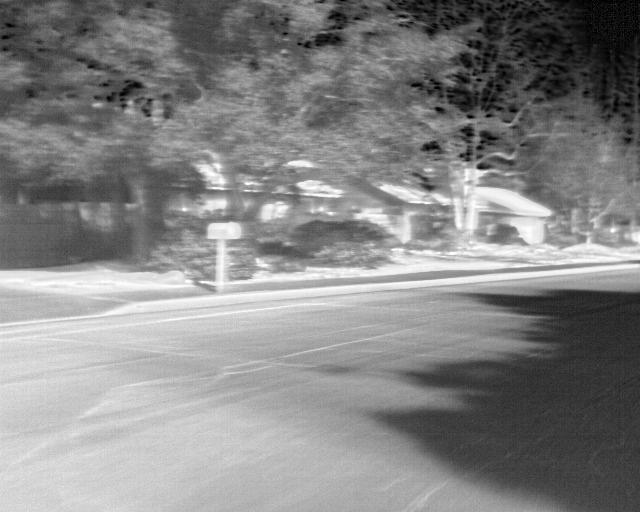mail box: (201, 209, 253, 286)
